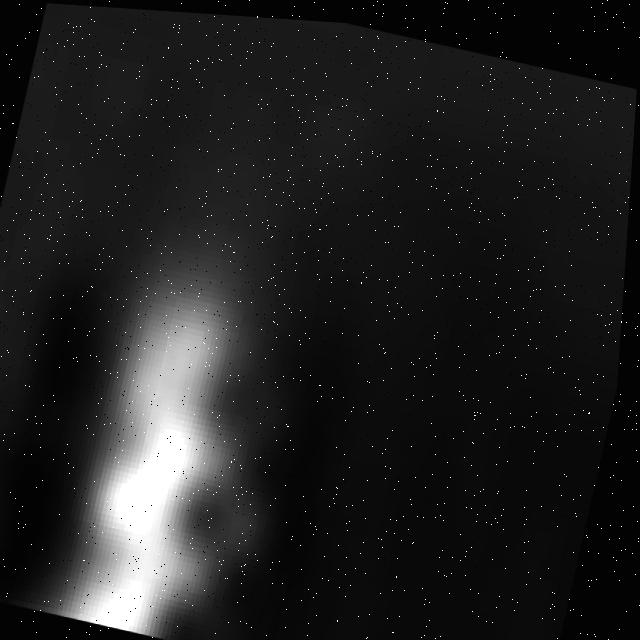person: (15, 175, 330, 640)
